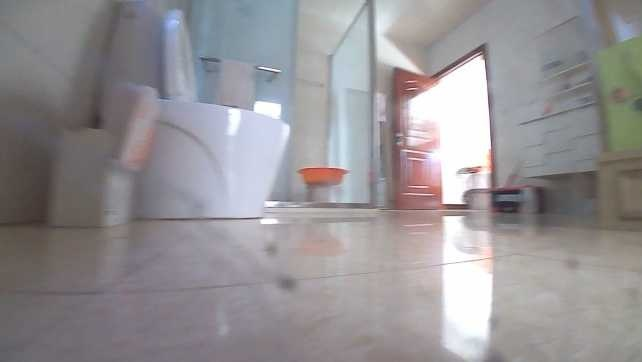door_anno: (388, 65, 445, 209)
door_sill: (267, 196, 375, 219)
toilet: (100, 0, 293, 223)
